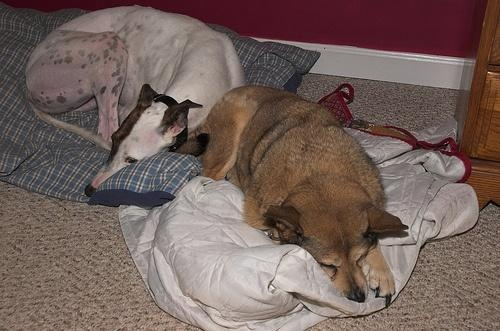dog: (191, 85, 412, 308), (23, 5, 250, 198)
